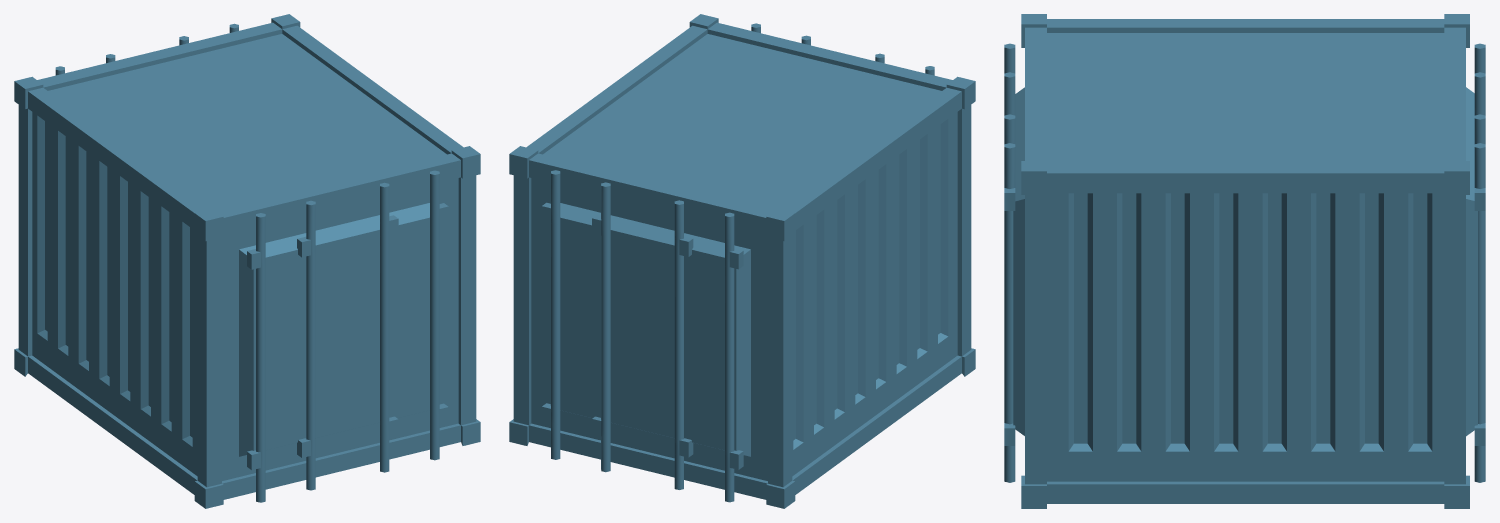
Rendered from GJ_Decor_Contener_02.fbx.
3 views of the same model, side by side, from view 1: azimuth 30°, elevation 25°; view 2: azimuth 150°, elevation 25°; view 3: azimuth 270°, elevation 25° (orthographic). The views are drawn at different scales.
Parts seen in each view (by area): view 1: GJ_Decor_Contener_02; view 2: GJ_Decor_Contener_02; view 3: GJ_Decor_Contener_02.
Part boxes in pixels (x1,y1,x2,y2): GJ_Decor_Contener_02: (14,14,480,508); GJ_Decor_Contener_02: (509,14,975,508); GJ_Decor_Contener_02: (1004,14,1485,508).
Bounding box in the file's own units: 19.36 × 19.38 × 25.01.
